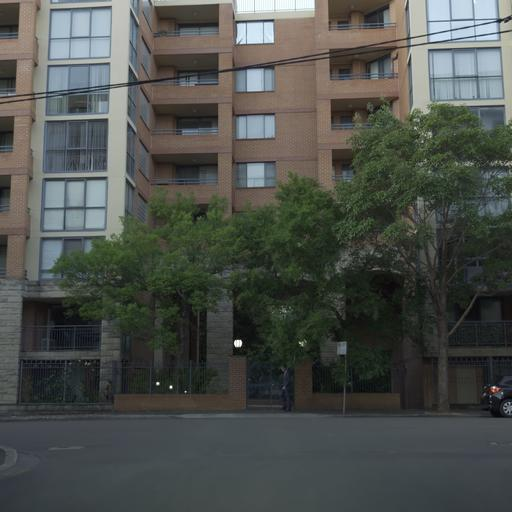Street light: (232, 337, 243, 354)
